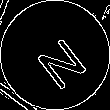N_NW: (24, 23, 86, 87)
